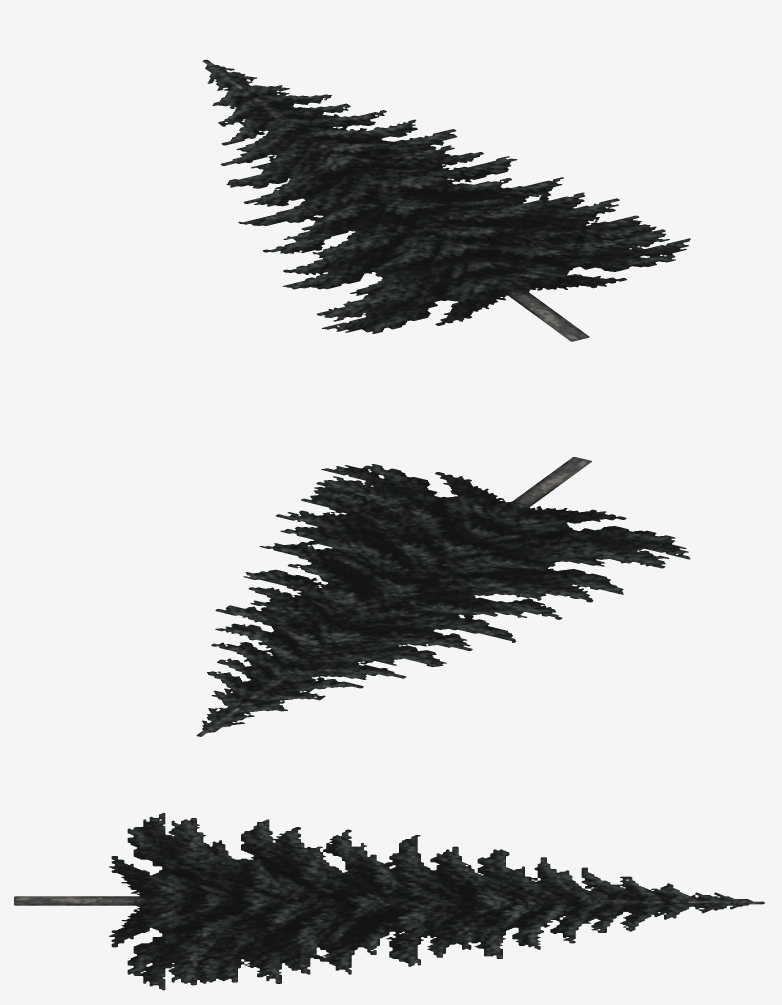
Rendered from SM_EC_Tree_Card_02.fbx.
3 views of the same model, one above another, from view 1: azimuth 30°, elevation 25°; view 2: azimuth 150°, elevation 25°; view 3: azimuth 270°, elevation 25° (orthographic).
Parts seen in each view (by area): view 1: SM_EC_Tree_Card_02; view 2: SM_EC_Tree_Card_02; view 3: SM_EC_Tree_Card_02.
Boxes of the visible parts, left/top/right/bottom form: SM_EC_Tree_Card_02: left=202, top=59, right=690, bottom=341; SM_EC_Tree_Card_02: left=196, top=457, right=690, bottom=736; SM_EC_Tree_Card_02: left=14, top=813, right=764, bottom=990.
Size of the model in its own units: 2.1 by 3.73 by 2.08e-09.
